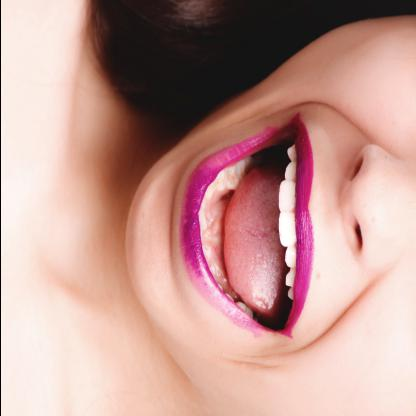Mouth: (177, 109, 316, 342)
Nose: (337, 142, 415, 274)
